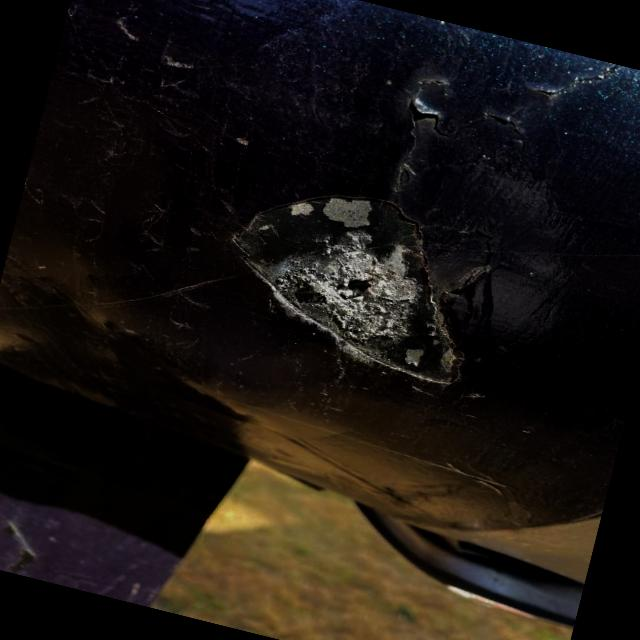crack: (386, 74, 528, 156), (504, 42, 617, 110)
dent: (199, 162, 536, 421)
